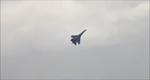maybay_muctieu: (70, 28, 86, 46)
